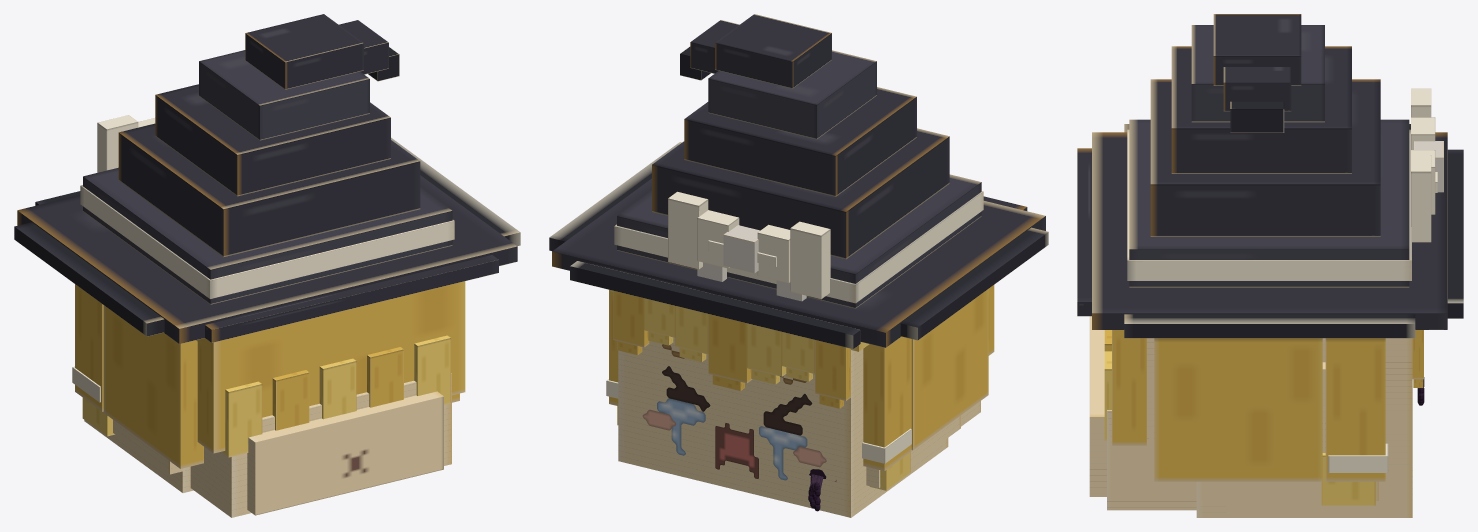
File: leak_marisa_1.obj
3 views of the same model, side by side, from view 1: azimuth 30°, elevation 25°; view 2: azimuth 150°, elevation 25°; view 3: azimuth 270°, elevation 25° (orthographic). The views are drawn at different scales.
Visible parts, largest first — view 1: leak_marisa_1; view 2: leak_marisa_1; view 3: leak_marisa_1.
Part boxes in pixels (box(x1,y1,x2,y2)): leak_marisa_1: box(14, 14, 520, 517); leak_marisa_1: box(549, 14, 1048, 517); leak_marisa_1: box(1077, 14, 1463, 517).
Bounding box in the file's own units: 19 × 19.34 × 15.53.
1 material, 1 textured.
